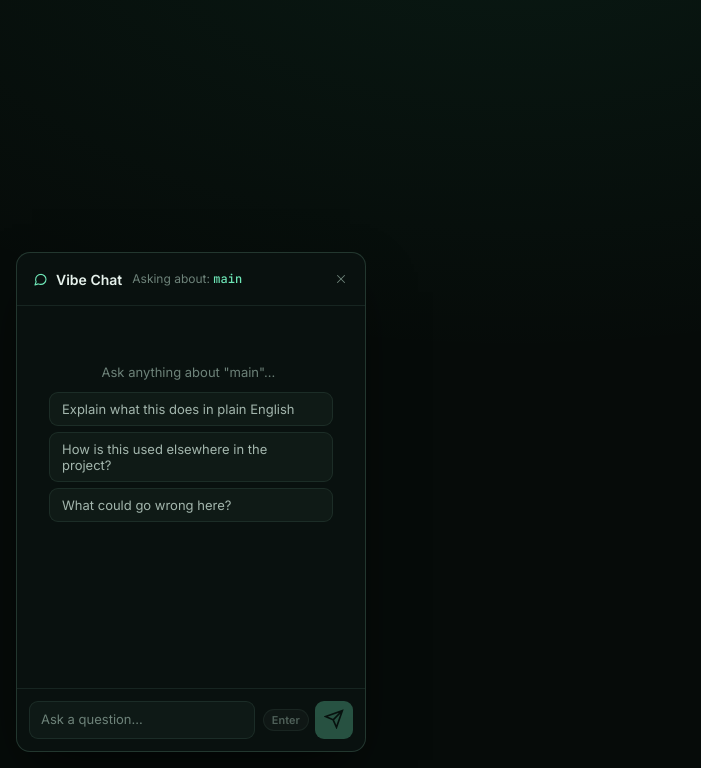
ChatDrawer › falls back to /api/chat when streaming fails
Type "test question" into the text box with placeholder "Ask a question..." at [142, 720], box [29, 701, 255, 739]
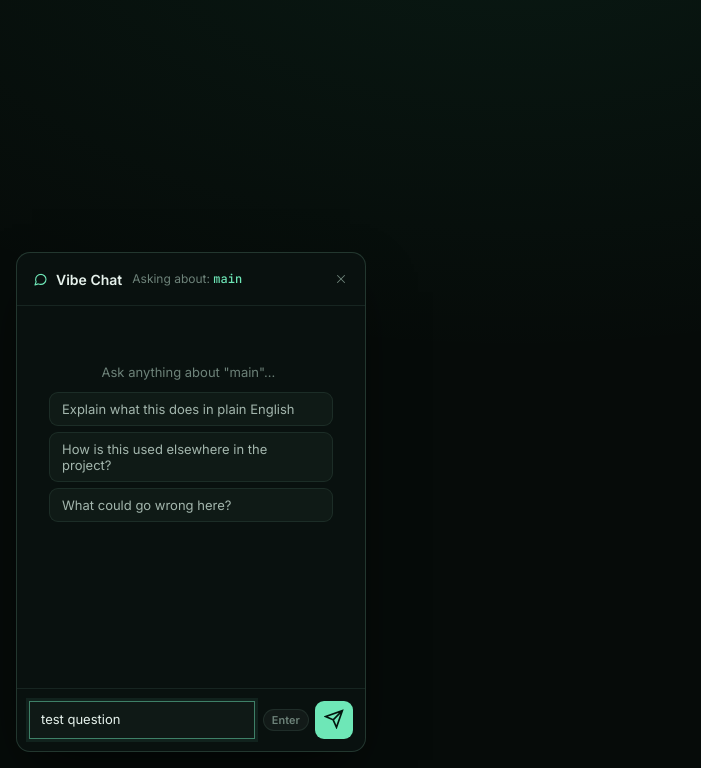
Click the button named "Send message" at [334, 720], box [315, 701, 353, 739]
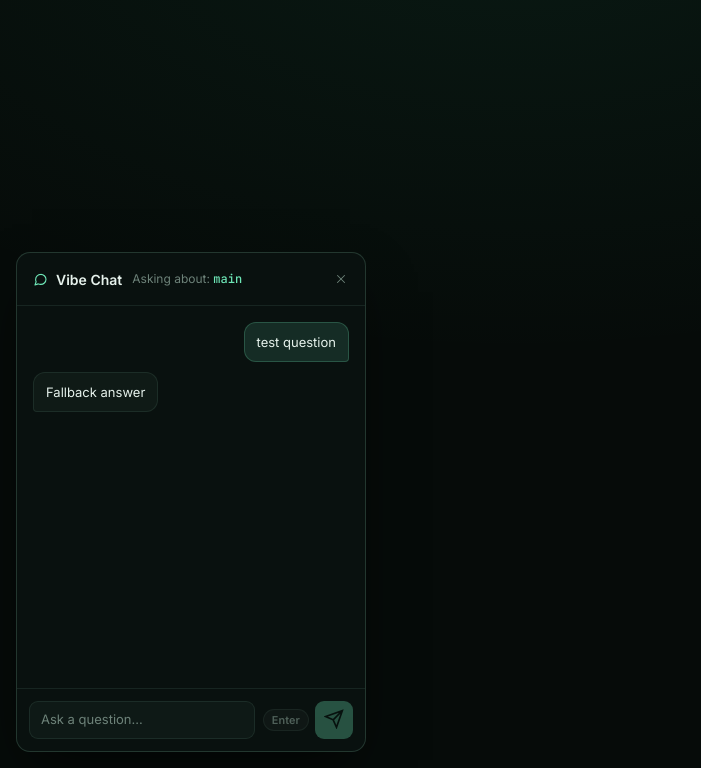
Result: the text "Fallback answer" is shown at [46, 382, 145, 402]
